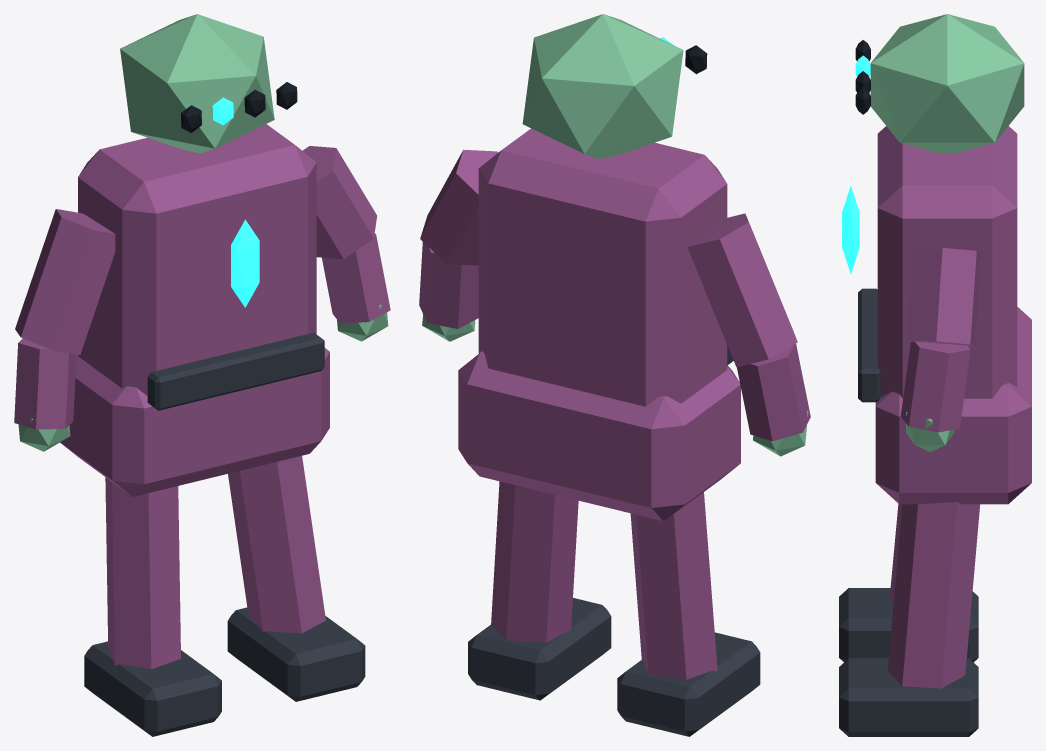
File: npcs_018_seed11.glb
3 renders of one model, left to right at view 1: azimuth 30°, elevation 25°; view 2: azimuth 150°, elevation 25°; view 3: azimuth 270°, elevation 25°, orthographic. The views are drawn at different scales.
Parts seen in each view (by area): view 1: npcs_018_seed11; view 2: npcs_018_seed11; view 3: npcs_018_seed11.
Boxes of the visible parts, bbox=[...] form: npcs_018_seed11: bbox=[14, 14, 390, 736]; npcs_018_seed11: bbox=[419, 14, 810, 736]; npcs_018_seed11: bbox=[839, 14, 1031, 736].
Bounding box in the file's own units: 1 × 1.72 × 0.4501.
